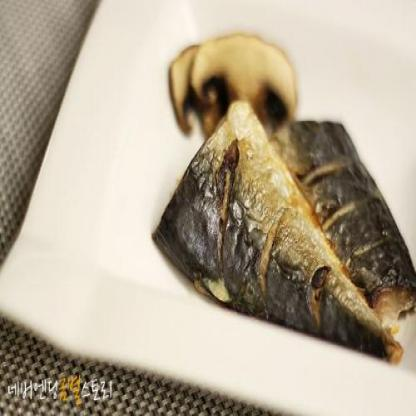Peixe: (164, 98, 416, 388)
